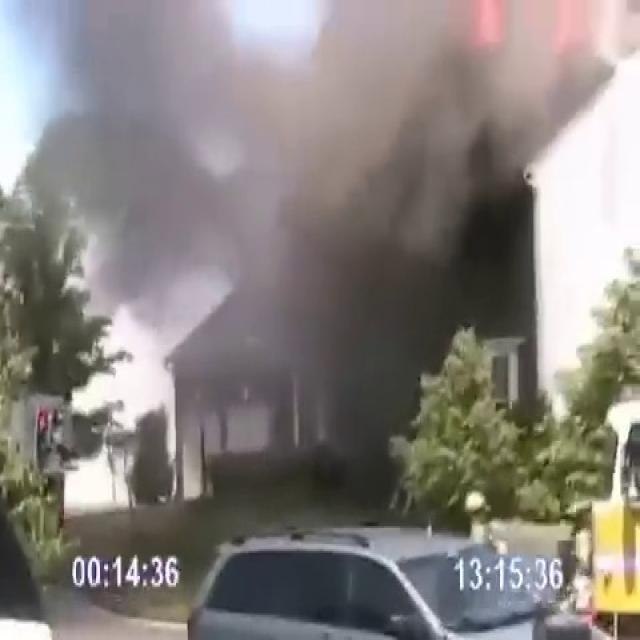Smoke: (2, 0, 590, 441)
